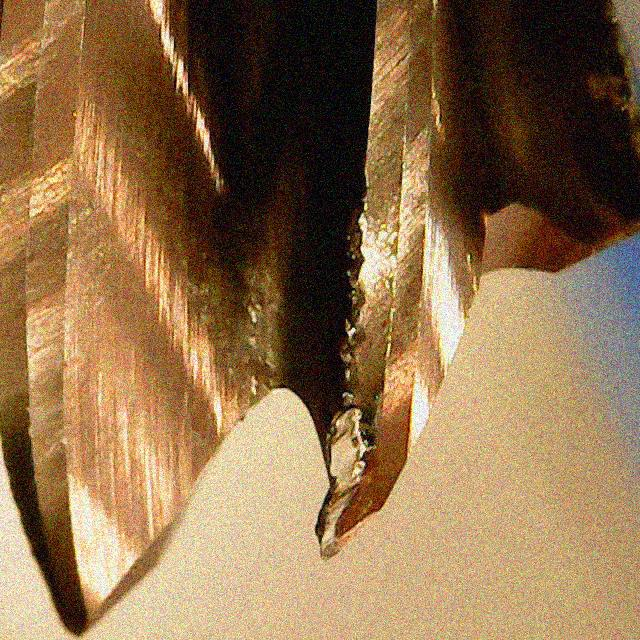Tool-wear-class-2: (291, 263, 469, 567)
